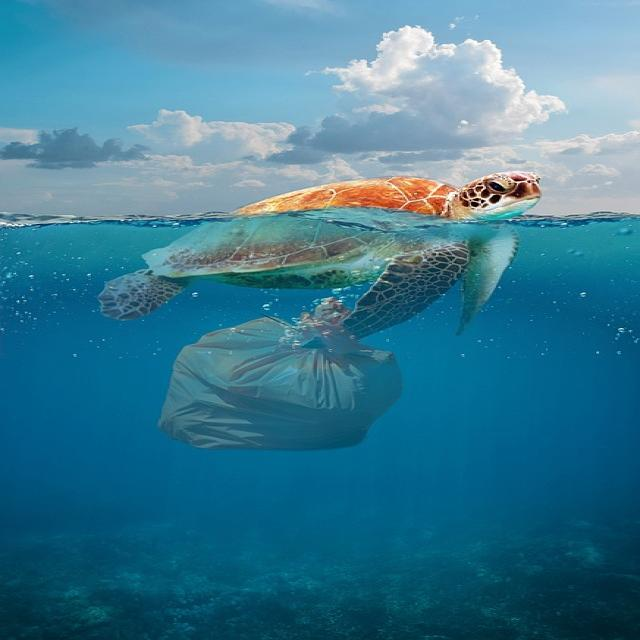trash: (142, 334, 402, 457)
